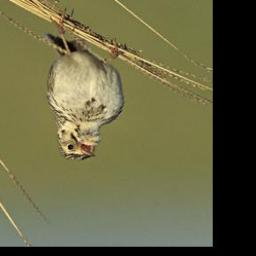Sparrow: (46, 7, 128, 162)
